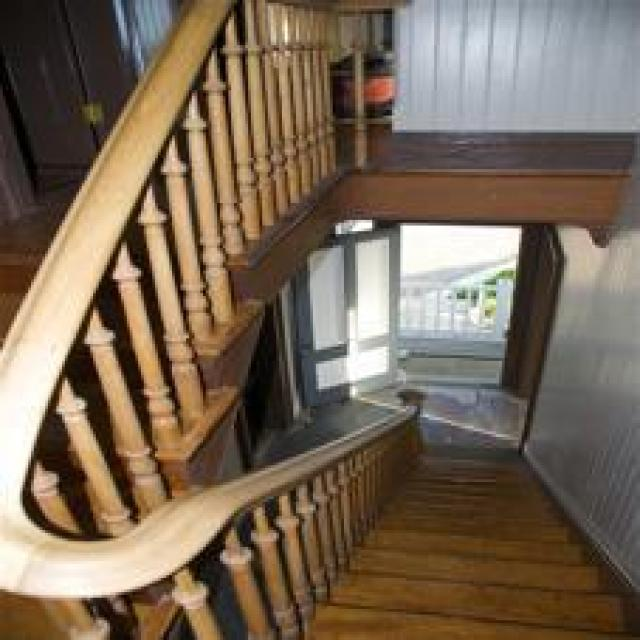downstair: (348, 495, 618, 633)
